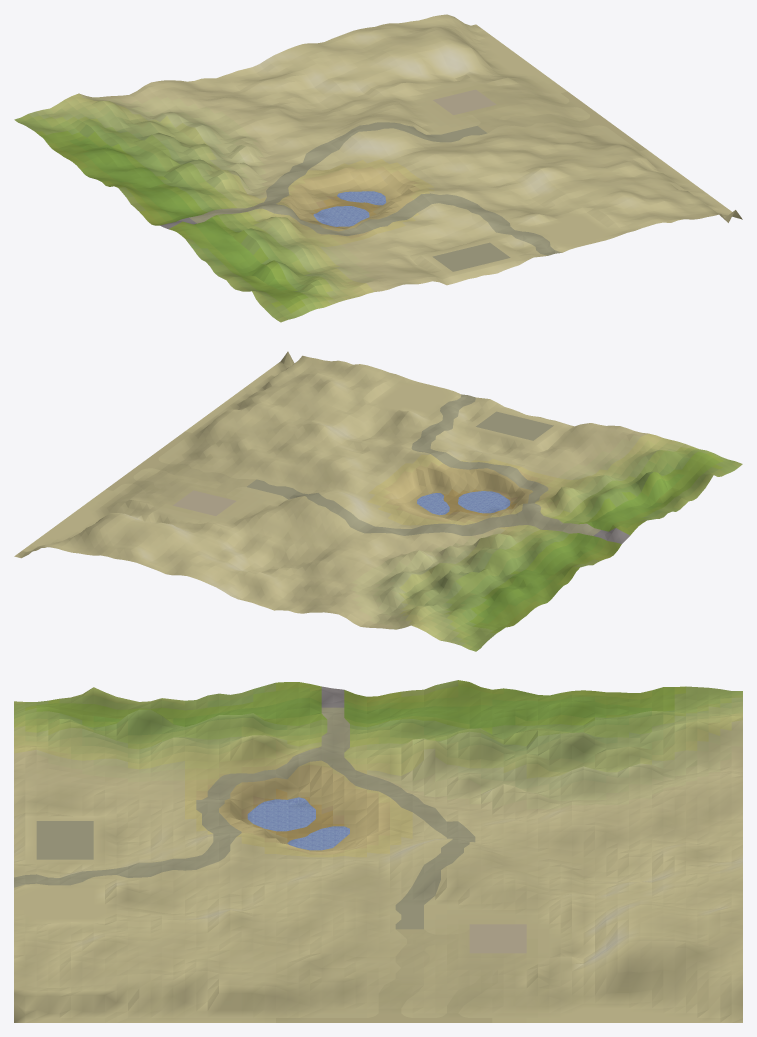
3 views of the same model, one above another, from view 1: azimuth 30°, elevation 25°; view 2: azimuth 150°, elevation 25°; view 3: azimuth 270°, elevation 25° (orthographic). The views are drawn at different scales.
Parts seen in each view (by area): view 1: model; view 2: model; view 3: model.
Boxes of the visible parts, bbox=[...] form: model: bbox=[14, 14, 742, 322]; model: bbox=[14, 351, 742, 651]; model: bbox=[14, 680, 742, 1022].
Size of the model in its own units: 64 by 4.06 by 64.
Materials: 2 (1 with a texture image).
